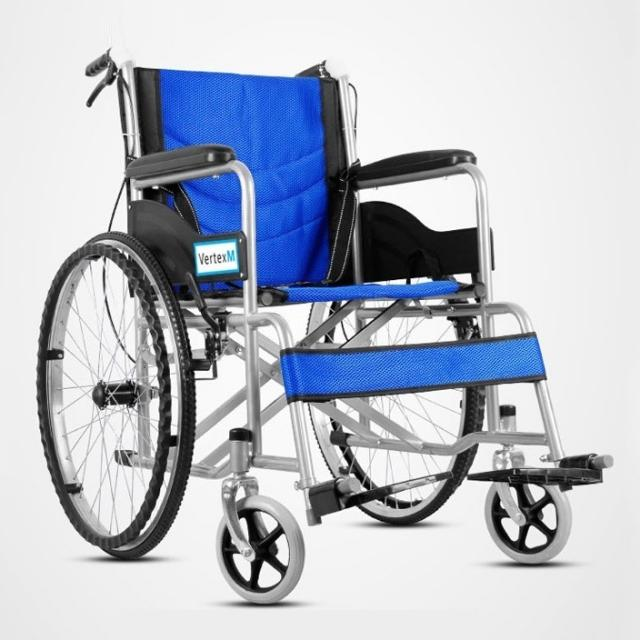wheelchair: (28, 31, 611, 609)
